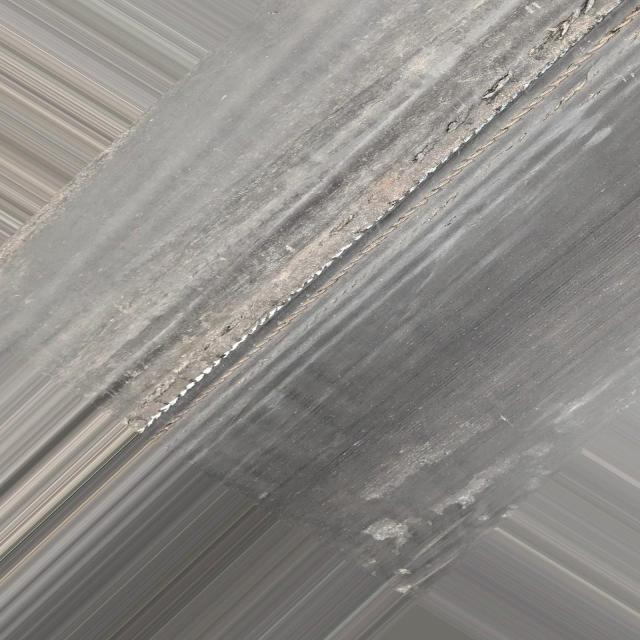impact damage: (112, 5, 630, 449)
